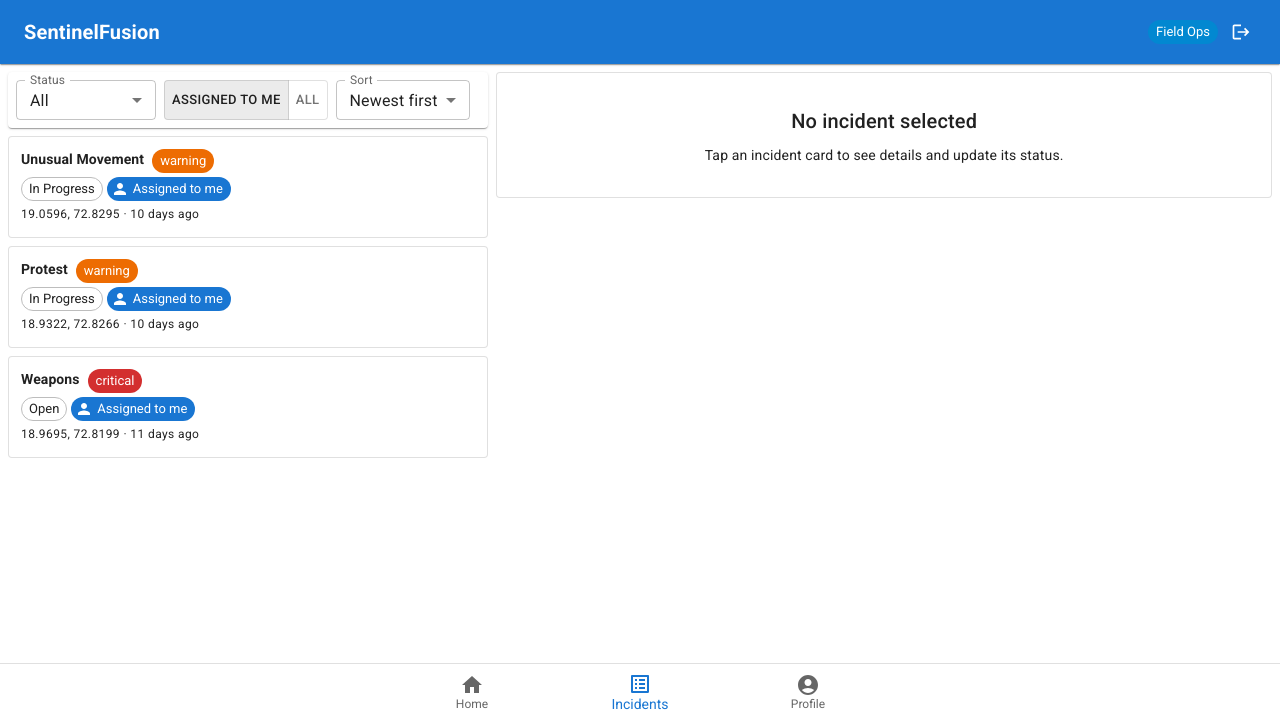
Test: FieldOpsView › updates status when the Start action is clicked
Click the heading "Weapons": (50,381) x1=21 y1=369 x2=80 y2=393
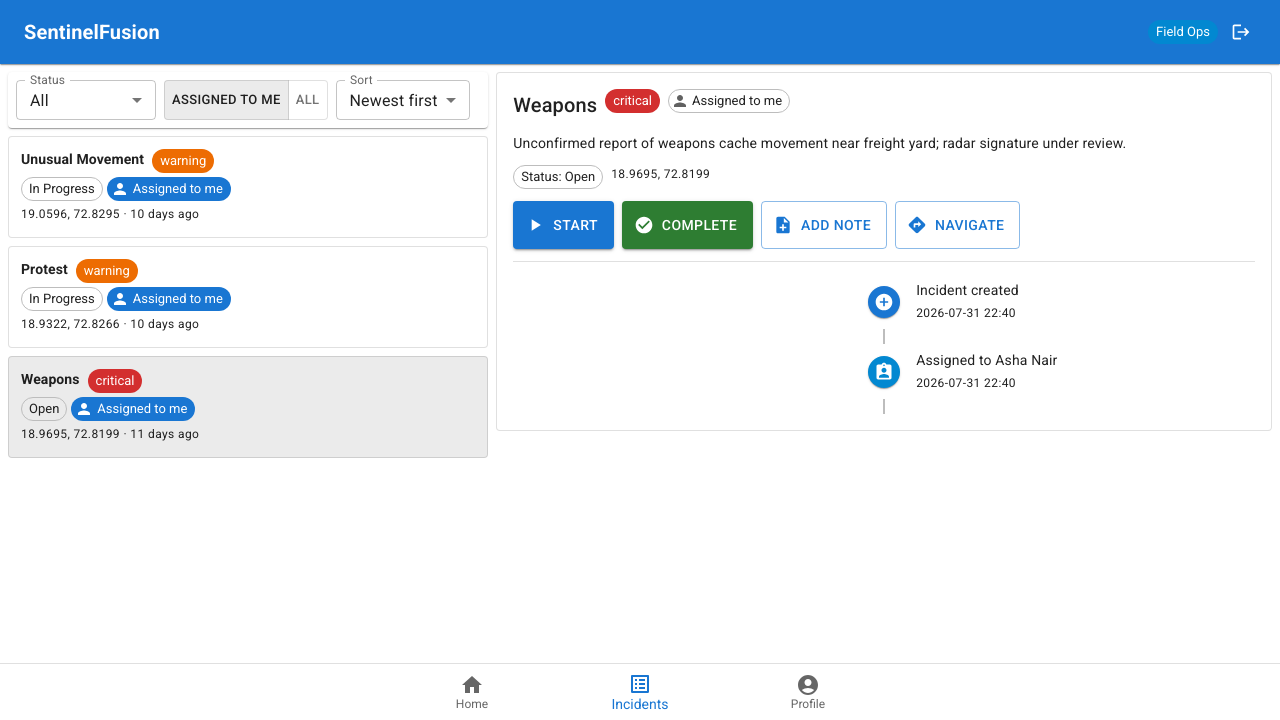
Click the button "Start": (564,225) x1=513 y1=201 x2=614 y2=249
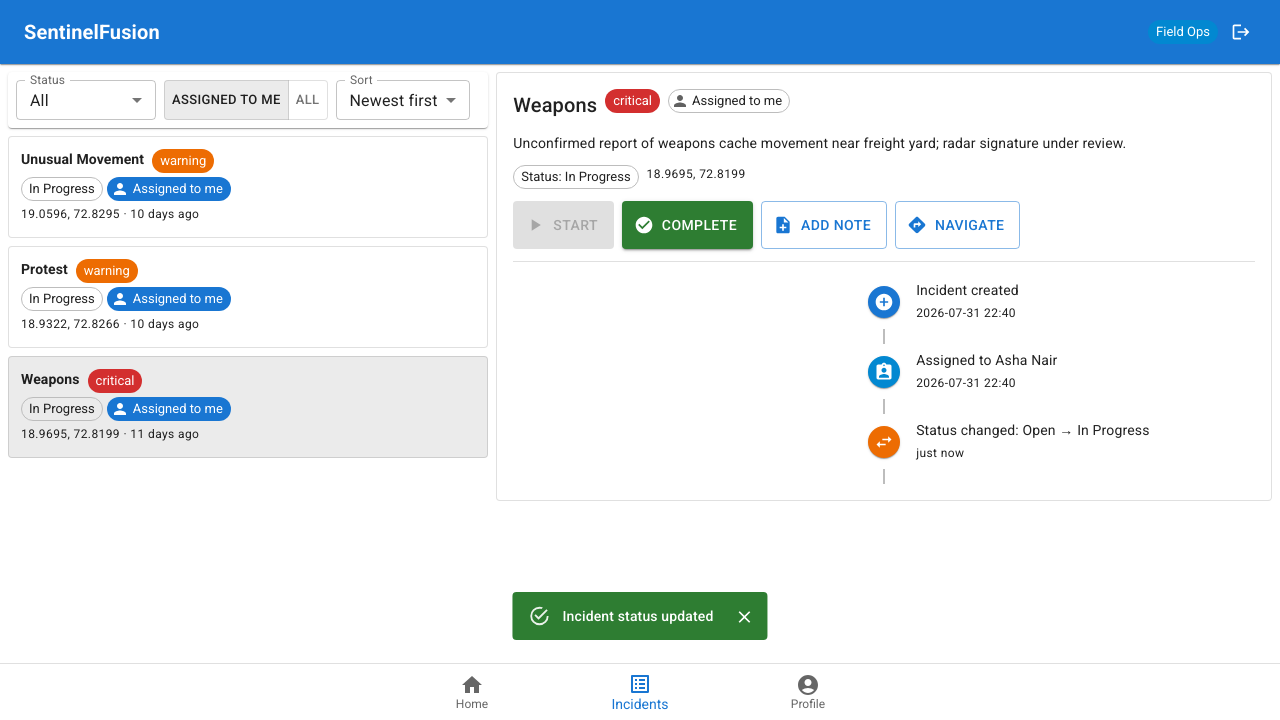
Now the text "Incident status updated" is shown, box x1=562 y1=608 x2=714 y2=624
Now the text "Status: In Progress" is shown, box x1=514 y1=167 x2=638 y2=187
